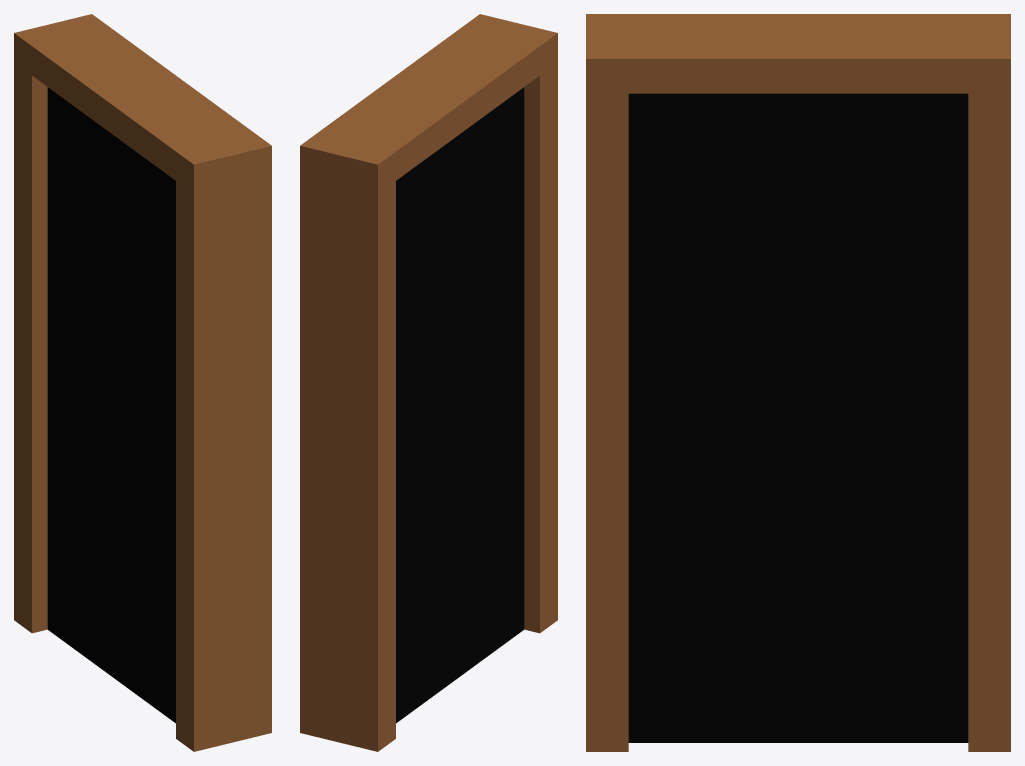
Rendered from door_01_mockup.fbx.
The picture shows the model from 3 angles, left to right: view 1: azimuth 30°, elevation 25°; view 2: azimuth 150°, elevation 25°; view 3: azimuth 270°, elevation 25°; orthographic projection. The views are drawn at different scales.
Parts seen in each view (by area): view 1: doorframe, door; view 2: doorframe, door; view 3: door, doorframe.
Part boxes in pixels (left/top/right/bottom): doorframe: left=14, top=14, right=271, bottom=751; door: left=47, top=87, right=175, bottom=723; doorframe: left=300, top=14, right=557, bottom=751; door: left=396, top=87, right=524, bottom=723; door: left=628, top=93, right=968, bottom=742; doorframe: left=586, top=14, right=1010, bottom=751.
Size of the model in its own units: 0.25 by 1 by 1.8.
